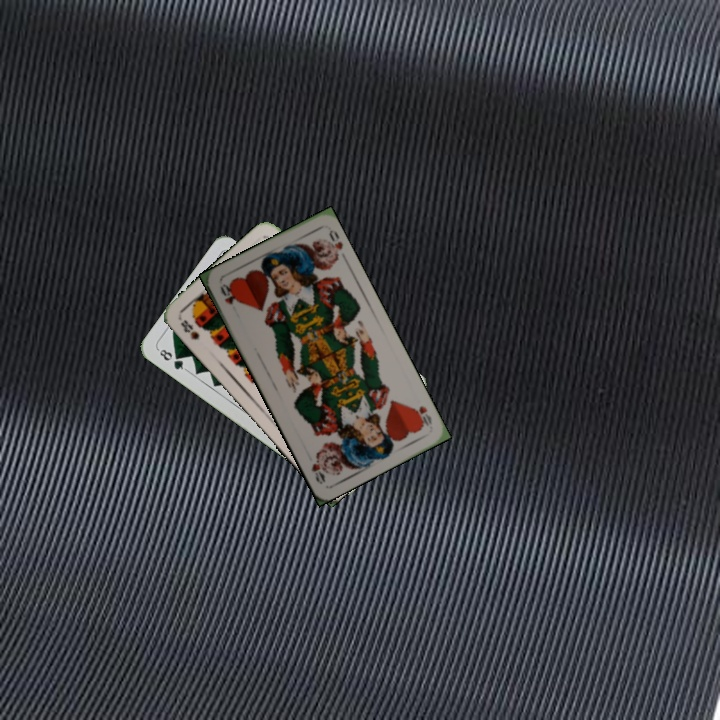G8: (154, 345, 189, 373)
HO: (408, 402, 435, 430), (216, 280, 237, 307)
S8: (177, 315, 202, 343)
